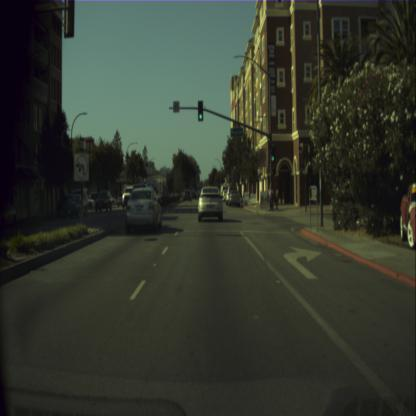Green: (270, 144, 275, 162), (198, 100, 202, 121)
